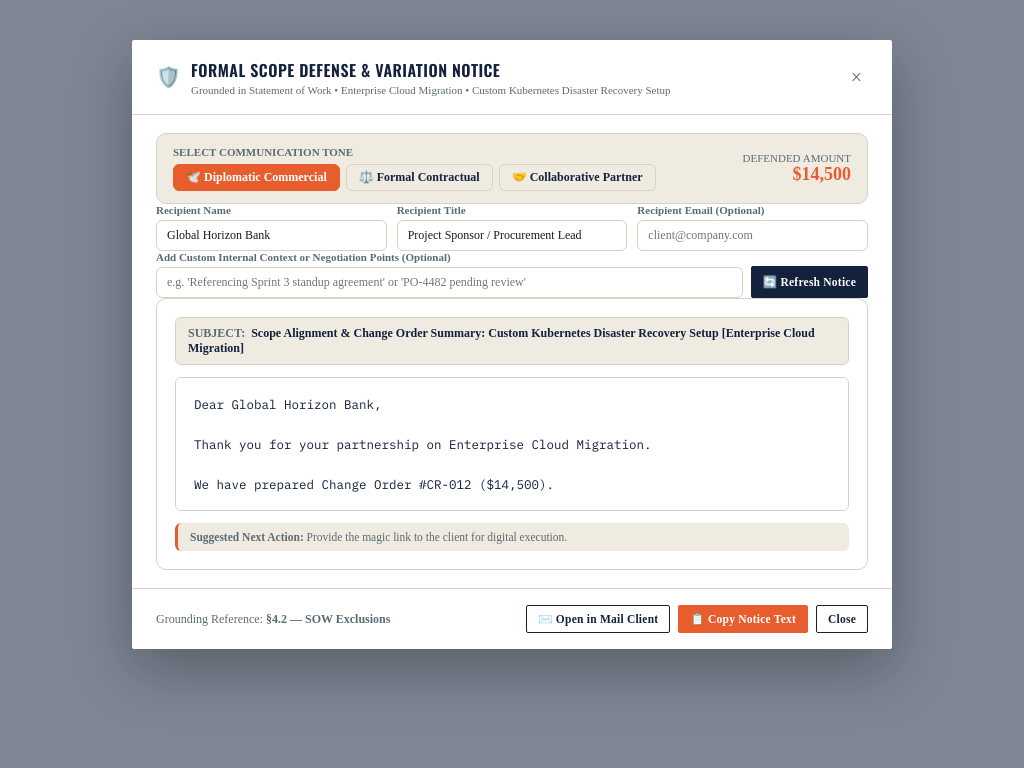
DefenseLetterModal Component › copies notice text to clipboard when copy button is clicked
Expected: the text "Scope Alignment & Change Order Summary" is shown, [188, 326, 815, 355]
Click the button "📋 Copy Notice Text". click: (743,619)
box: [678, 605, 808, 633]
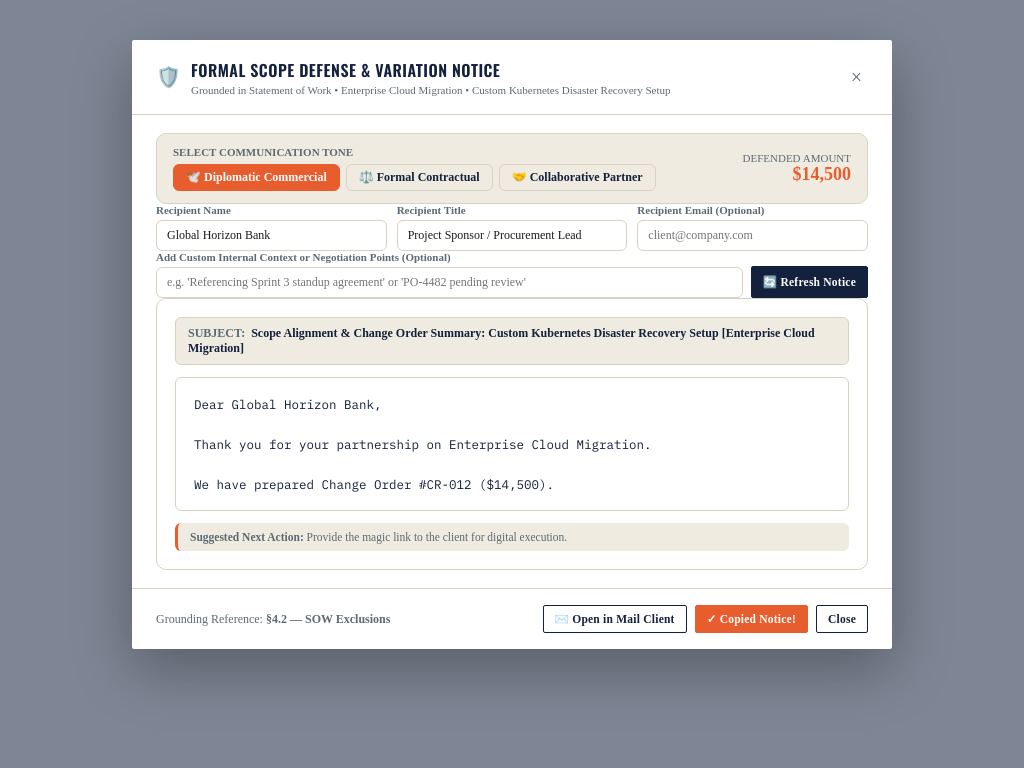
Expected: the button "✓ Copied Notice!" is shown, [695, 605, 808, 633]
